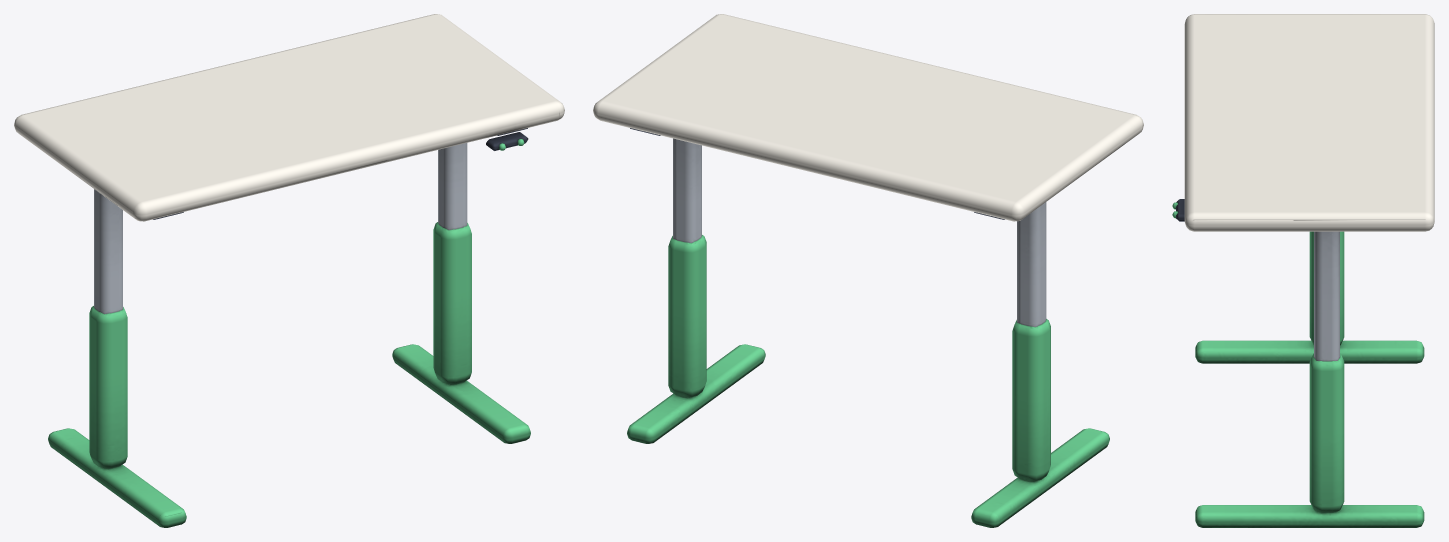
The model's file is standing_desk.glb.
The picture shows the model from 3 angles, left to right: view 1: azimuth 30°, elevation 25°; view 2: azimuth 150°, elevation 25°; view 3: azimuth 270°, elevation 25°; orthographic projection. The views are drawn at different scales.
Visible parts, largest first — view 1: standing_desk; view 2: standing_desk; view 3: standing_desk.
Part boxes in pixels (x1,y1,x2,y2): standing_desk: [14, 14, 564, 527]; standing_desk: [593, 14, 1143, 527]; standing_desk: [1172, 14, 1434, 527].
Bounding box in the file's own units: 1.4 × 1.04 × 0.756.
Materials: 4 (4 with a texture image).
